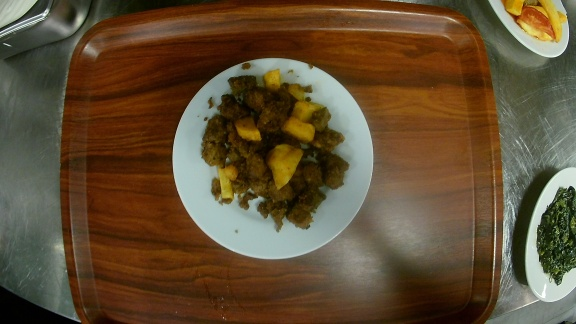arnavutcigeri: (171, 57, 375, 260)
